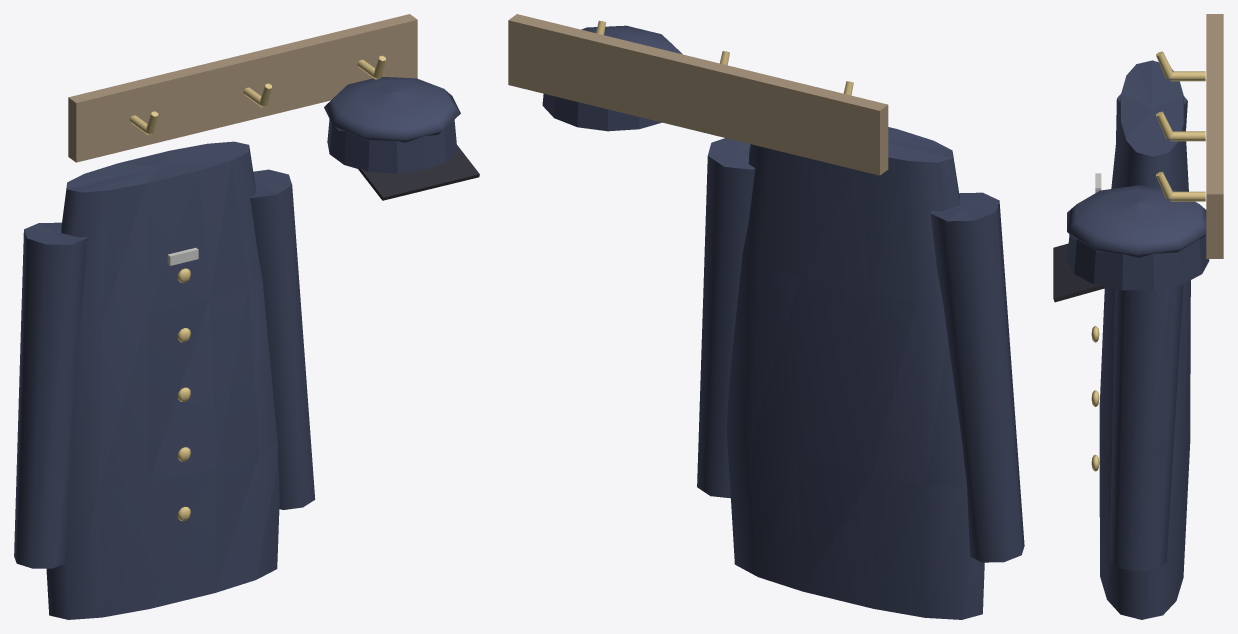
File: cabin_uniform_a.glb
3 renders of one model, left to right at view 1: azimuth 30°, elevation 25°; view 2: azimuth 150°, elevation 25°; view 3: azimuth 270°, elevation 25°, orthographic. The views are drawn at different scales.
Visible parts, largest first — view 1: body; view 2: body; view 3: body.
Boxes of the visible parts, left/top/right/bottom form: body: left=14, top=14, right=479, bottom=619; body: left=508, top=14, right=1024, bottom=619; body: left=1053, top=14, right=1223, bottom=619.
Size of the model in its own units: 0.7649 by 0.8013 by 0.2391.
